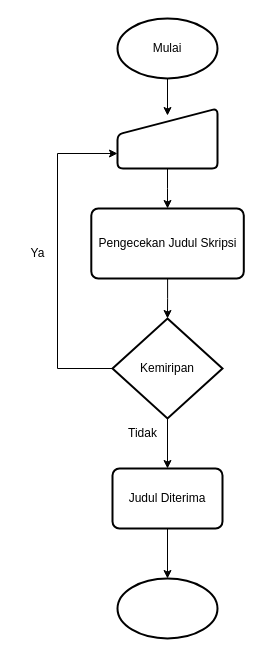
This 262x656 diagram has some shape labels left out. Here are the shapes that lost their labels. From the top down, the centre of each, then its label:
At (x=167, y=138): "Judul Skripsi".
At (x=167, y=608): "Selesai".
